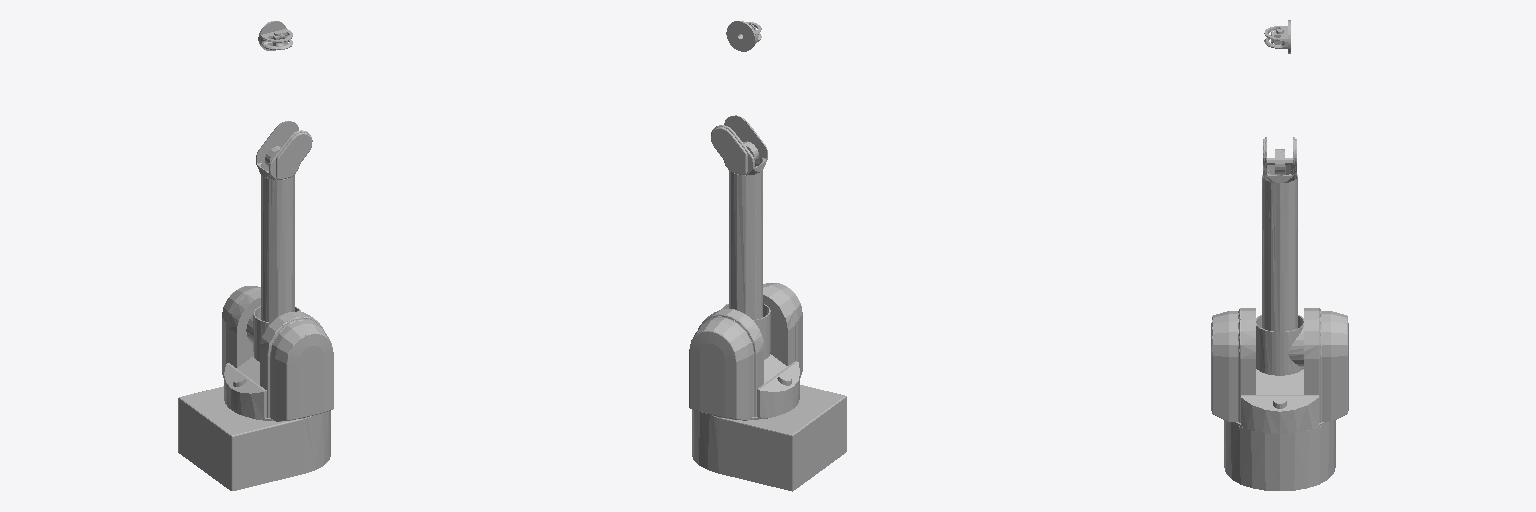
robot.urdf — iri_wam:
<?xml version="1.0" ?>
<!-- =================================================================================== -->
<!-- |    This document was autogenerated by xacro from [local-path]/programming/iri/iri-ros-pkg/iri_wam/iri_wam_description/xacro/wam.urdf.xacro | -->
<!-- |    EDITING THIS FILE BY HAND IS NOT RECOMMENDED                                 | -->
<!-- =================================================================================== -->
<robot name="iri_wam" xmlns:controller="http://playerstage.sourceforge.net/gazebo/xmlschema/#controller" xmlns:interface="http://playerstage.sourceforge.net/gazebo/xmlschema/#interface" xmlns:sensor="http://playerstage.sourceforge.net/gazebo/xmlschema/#sensor" xmlns:xacro="http://ros.org/wiki/xacro">
  <!-- Constants -->
  <!-- Includes -->
  <!-- MACROS -->
  <!-- LINKS   -->
  <link name="wambase">
    <inertial>
      <origin rpy="0 0 0" xyz="0 0 0"/>
      <mass value="1"/>
      <inertia ixx="100" ixy="0" ixz="0" iyy="100" iyz="0" izz="100"/>
    </inertial>
    <visual>
      <origin rpy="0 0 0" xyz="0 0 0"/>
      <geometry name="wambase-geom">
        <mesh filename="package://iri_wam_description/mesh/wambase.stl"/>
      </geometry>
      <material name="wambase-mat">
        <color rgba="0.75 0.75 0.75 1.0"/>
      </material>
    </visual>
    <collision>
      <origin rpy="0 0 0" xyz="0 0 0"/>
      <geometry name="wambase-geom">
        <mesh filename="package://iri_wam_description/mesh/wambase.stl"/>
      </geometry>
      <contact_coefficients kd="1.0" kp="1000.0" mu="0"/>
    </collision>
  </link>
  <link name="wam_fk/wam0">
    <inertial>
      <origin rpy="0 0 0" xyz="0 0 0"/>
      <mass value="0.1"/>
      <inertia ixx="100" ixy="0" ixz="0" iyy="100" iyz="0" izz="100"/>
    </inertial>
    <!--
    <visual>
      <origin rpy="0 0 0" xyz="0 0 0"/>
      <geometry name="wam0-geom">
        <mesh filename="package://iri_wam_description/mesh/wam0.stl"/>
      </geometry>
      <material name="wam0-mat">
        <color rgba="0.75 0.75 0.75 1.0"/>
      </material>
    </visual>
-->
    <collision>
      <origin rpy="0 0 0" xyz="0 0 0"/>
      <geometry name="wam0-geom">
        <mesh filename="package://iri_wam_description/mesh/wam0.stl"/>
      </geometry>
      <contact_coefficients kd="1.0" kp="1000.0" mu="0"/>
    </collision>
  </link>
  <link name="wam_fk/wam1">
    <inertial>
      <origin rpy="1.5708 0 0" xyz="0 0 0"/>
      <mass value="0.1"/>
      <inertia ixx="100" ixy="0" ixz="0" iyy="100" iyz="0" izz="100"/>
    </inertial>
    <visual>
      <origin rpy="1.5708 0 0" xyz="0 0 0"/>
      <geometry name="wam1-geom">
        <mesh filename="package://iri_wam_description/mesh/wam1.stl"/>
      </geometry>
      <material name="wam1-mat">
        <color rgba="0.75 0.75 0.75 1.0"/>
      </material>
    </visual>
    <collision>
      <origin rpy="1.5708 0 0" xyz="0 0 0"/>
      <geometry name="wam1-geom">
        <mesh filename="package://iri_wam_description/mesh/wam1.stl"/>
      </geometry>
      <contact_coefficients kd="1.0" kp="1000.0" mu="0"/>
    </collision>
  </link>
  <link name="wam_fk/wam2">
    <inertial>
      <origin rpy="-1.5708 0 0" xyz="0 0 0"/>
      <mass value="0.1"/>
      <inertia ixx="100" ixy="0" ixz="0" iyy="100" iyz="0" izz="100"/>
    </inertial>
    <visual>
      <origin rpy="-1.5708 0 0" xyz="0 0 0"/>
      <geometry name="wam2-geom">
        <mesh filename="package://iri_wam_description/mesh/wam2.stl"/>
      </geometry>
      <material name="wam2-mat">
        <color rgba="0.75 0.75 0.75 1.0"/>
      </material>
    </visual>
    <collision>
      <origin rpy="-1.5708 0 0" xyz="0 0 0"/>
      <geometry name="wam2-geom">
        <mesh filename="package://iri_wam_description/mesh/wam2.stl"/>
      </geometry>
      <contact_coefficients kd="1.0" kp="1000.0" mu="0"/>
    </collision>
  </link>
  <link name="wam_fk/wam3">
    <inertial>
      <origin rpy="1.5708 0 0" xyz="-0.045 0.55 0"/>
      <mass value="0.1"/>
      <inertia ixx="100" ixy="0" ixz="0" iyy="100" iyz="0" izz="100"/>
    </inertial>
    <visual>
      <origin rpy="1.5708 0 0" xyz="-0.045 0.55 0"/>
      <geometry name="wam3-geom">
        <mesh filename="package://iri_wam_description/mesh/wam3.stl"/>
      </geometry>
      <material name="wam3-mat">
        <color rgba="0.75 0.75 0.75 1.0"/>
      </material>
    </visual>
    <collision>
      <origin rpy="1.5708 0 0" xyz="-0.045 0.55 0"/>
      <geometry name="wam3-geom">
        <mesh filename="package://iri_wam_description/mesh/wam3.stl"/>
      </geometry>
      <contact_coefficients kd="1.0" kp="1000.0" mu="0"/>
    </collision>
  </link>
  <link name="wam_fk/wam4">
    <inertial>
      <origin rpy="-1.5708 0 0" xyz="0.045 0 0"/>
      <mass value="0.1"/>
      <inertia ixx="100" ixy="0" ixz="0" iyy="100" iyz="0" izz="100"/>
    </inertial>
    <visual>
      <origin rpy="-1.5708 0 0" xyz="0.045 0 0"/>
      <geometry name="wam4-geom">
        <mesh filename="package://iri_wam_description/mesh/wam4.stl"/>
      </geometry>
      <material name="wam4-mat">
        <color rgba="0.75 0.75 0.75 1.0"/>
      </material>
    </visual>
    <collision>
      <origin rpy="-1.5708 0 0" xyz="0.045 0 0"/>
      <geometry name="wam4-geom">
        <mesh filename="package://iri_wam_description/mesh/wam4.stl"/>
      </geometry>
      <contact_coefficients kd="1.0" kp="1000.0" mu="0"/>
    </collision>
  </link>
  <link name="wam_fk/wam5">
    <inertial>
      <origin rpy="1.5708 0 0" xyz="0 0 0"/>
      <mass value="0.1"/>
      <inertia ixx="100" ixy="0" ixz="0" iyy="100" iyz="0" izz="100"/>
    </inertial>
    <visual>
      <origin rpy="1.5708 0 0" xyz="0 0 0"/>
      <geometry name="wam5-geom">
        <mesh filename="package://iri_wam_description/mesh/wam5.stl"/>
      </geometry>
      <material name="wam5-mat">
        <color rgba="0.75 0.75 0.75 1.0"/>
      </material>
    </visual>
    <collision>
      <origin rpy="1.5708 0 0" xyz="0 0 0"/>
      <geometry name="wam5-geom">
        <mesh filename="package://iri_wam_description/mesh/wam5.stl"/>
      </geometry>
      <contact_coefficients kd="1.0" kp="1000.0" mu="0"/>
    </collision>
  </link>
  <link name="wam_fk/wam6">
    <inertial>
      <origin rpy="-1.5708 0 0" xyz="0 0 0"/>
      <mass value="0.1"/>
      <inertia ixx="100" ixy="0" ixz="0" iyy="100" iyz="0" izz="100"/>
    </inertial>
    <visual>
      <origin rpy="-1.5708 0 0" xyz="0 0 0"/>
      <geometry name="wam6-geom">
        <mesh filename="package://iri_wam_description/mesh/wam6.stl"/>
      </geometry>
      <material name="wam6-mat">
        <color rgba="0.75 0.75 0.75 1.0"/>
      </material>
    </visual>
    <collision>
      <origin rpy="-1.5708 0 0" xyz="0 0 0"/>
      <geometry name="wam6-geom">
        <mesh filename="package://iri_wam_description/mesh/wam6.stl"/>
      </geometry>
      <contact_coefficients kd="1.0" kp="1000.0" mu="0"/>
    </collision>
  </link>
  <link name="wam_fk/wam7">
    <inertial>
      <origin rpy="0 0 0" xyz="0 0 -0.06"/>
      <mass value="0.1"/>
      <inertia ixx="100" ixy="0" ixz="0" iyy="100" iyz="0" izz="100"/>
    </inertial>
    <visual>
      <origin rpy="0 0 0" xyz="0 0 -0.06"/>
      <geometry name="wam7-geom">
        <mesh filename="package://iri_wam_description/mesh/wam7.stl"/>
      </geometry>
      <material name="wam7-mat">
        <color rgba="0.75 0.75 0.75 1.0"/>
      </material>
    </visual>
    <collision>
      <origin rpy="0 0 0" xyz="0 0 -0.06"/>
      <geometry name="wam7-geom">
        <mesh filename="package://iri_wam_description/mesh/wam7.stl"/>
      </geometry>
      <contact_coefficients kd="1.0" kp="1000.0" mu="0"/>
    </collision>
  </link>
  <!-- JOINTS  -->
  <joint name="j0" type="revolute">
    <parent link="wambase"/>
    <child link="wam_fk/wam0"/>
    <origin rpy="0 0 0" xyz="0.22 0.14 0.346"/>
    <limit effort="30" lower="-2.6" upper="2.6" velocity="2"/>
    <axis xyz="0 0 1"/>
  </joint>
  <joint name="j1" type="revolute">
    <parent link="wam_fk/wam0"/>
    <child link="wam_fk/wam1"/>
    <origin rpy="-1.5708 0 0" xyz="0 0 0"/>
    <limit effort="30" lower="-2.6" upper="2.6" velocity="2"/>
    <axis xyz="0 1 0"/>
  </joint>
  <joint name="j2" type="revolute">
    <parent link="wam_fk/wam1"/>
    <child link="wam_fk/wam2"/>
    <origin rpy="1.5708 0 0" xyz="0 0 0"/>
    <limit effort="30" lower="-2.0" upper="2.0" velocity="2"/>
    <axis xyz="0 1 0"/>
  </joint>
  <joint name="j3" type="revolute">
    <parent link="wam_fk/wam2"/>
    <child link="wam_fk/wam3"/>
    <origin rpy="-1.5708 0 0" xyz="0.045 0 0.55"/>
    <limit effort="30" lower="-2.8" upper="2.8" velocity="2"/>
    <axis xyz="0 0 1"/>
  </joint>
  <joint name="j4" type="revolute">
    <parent link="wam_fk/wam3"/>
    <child link="wam_fk/wam4"/>
    <origin rpy="1.5708 0 0" xyz="-0.045 0 0"/>
    <limit effort="30" lower="-2.8" upper="2.8" velocity="2"/>
    <axis xyz="0 0 1"/>
  </joint>
  <joint name="j5" type="revolute">
    <parent link="wam_fk/wam4"/>
    <child link="wam_fk/wam5"/>
    <origin rpy="-1.5708 0 0" xyz="0 0 0.3"/>
    <limit effort="30" lower="-2.8" upper="2.8" velocity="2"/>
    <axis xyz="0 0 1"/>
  </joint>
  <joint name="j6" type="revolute">
    <parent link="wam_fk/wam5"/>
    <child link="wam_fk/wam6"/>
    <origin rpy="1.5708 0 0" xyz="0 0 0"/>
    <limit effort="30" lower="-2.8" upper="2.8" velocity="2"/>
    <axis xyz="0 0 1"/>
  </joint>
  <joint name="j7" type="revolute">
    <parent link="wam_fk/wam6"/>
    <child link="wam_fk/wam7"/>
    <origin rpy="0 0 0" xyz="0 0 0.06"/>
    <limit effort="30" lower="-2.8" upper="2.8" velocity="2"/>
    <axis xyz="0 0 1"/>
  </joint>
  <!-- Transmission -->
  <transmission name="linkb_link0_trans" type="pr2_mechanism_model/SimpleTransmission">
    <actuator name="linkb_link0_motor"/>
    <joint name="j0"/>
    <mechanicalReduction>1</mechanicalReduction>
    <motorTorqueConstant>1</motorTorqueConstant>
    <!--  <pulsesPerRevolution>90000</pulsesPerRevolution>-->
  </transmission>
  <transmission name="link0_link1_trans" type="pr2_mechanism_model/SimpleTransmission">
    <actuator name="link0_link1_motor"/>
    <joint name="j1"/>
    <mechanicalReduction>1</mechanicalReduction>
    <motorTorqueConstant>1</motorTorqueConstant>
    <!--  <pulsesPerRevolution>90000</pulsesPerRevolution>-->
  </transmission>
  <transmission name="link1_link2_trans" type="pr2_mechanism_model/SimpleTransmission">
    <actuator name="link1_link2_motor"/>
    <joint name="j2"/>
    <mechanicalReduction>1</mechanicalReduction>
    <motorTorqueConstant>1</motorTorqueConstant>
    <!--  <pulsesPerRevolution>90000</pulsesPerRevolution>-->
  </transmission>
  <transmission name="link2_link3_trans" type="pr2_mechanism_model/SimpleTransmission">
    <actuator name="link2_link3_motor"/>
    <joint name="j3"/>
    <mechanicalReduction>1</mechanicalReduction>
    <motorTorqueConstant>1</motorTorqueConstant>
    <!--  <pulsesPerRevolution>90000</pulsesPerRevolution>-->
  </transmission>
  <transmission name="link3_link4_trans" type="pr2_mechanism_model/SimpleTransmission">
    <actuator name="link3_link4_motor"/>
    <joint name="j4"/>
    <mechanicalReduction>1</mechanicalReduction>
    <motorTorqueConstant>1</motorTorqueConstant>
    <!--  <pulsesPerRevolution>90000</pulsesPerRevolution>-->
  </transmission>
  <transmission name="link4_link5_trans" type="pr2_mechanism_model/SimpleTransmission">
    <actuator name="link4_link5_motor"/>
    <joint name="j5"/>
    <mechanicalReduction>1</mechanicalReduction>
    <motorTorqueConstant>1</motorTorqueConstant>
    <!--  <pulsesPerRevolution>90000</pulsesPerRevolution>-->
  </transmission>
  <transmission name="link5_link6_trans" type="pr2_mechanism_model/SimpleTransmission">
    <actuator name="link5_link6_motor"/>
    <joint name="j6"/>
    <mechanicalReduction>1</mechanicalReduction>
    <motorTorqueConstant>1</motorTorqueConstant>
    <!--  <pulsesPerRevolution>90000</pulsesPerRevolution>-->
  </transmission>
  <transmission name="link6_link7_trans" type="pr2_mechanism_model/SimpleTransmission">
    <actuator name="link6_link7_motor"/>
    <joint name="j7"/>
    <mechanicalReduction>1</mechanicalReduction>
    <motorTorqueConstant>1</motorTorqueConstant>
    <!--  <pulsesPerRevolution>90000</pulsesPerRevolution>-->
  </transmission>
  <!-- PLUGINS -->
  <!--  <include filename="$(find iri_wam_gazebo)/urdf/iri_wam.gazebo.xacro" /> -->
</robot>

--- What the picture shows (computed from the rendered views, not written in the file) ---
Views: 3 orthographic renders of the robot side by side, from view 1: azimuth 30°, elevation 25°; view 2: azimuth 150°, elevation 25°; view 3: azimuth 270°, elevation 25°.
Model iri_wam with 9 links and 8 joints (8 revolute), rooted at wambase, posed all joints at 0.
Visible links, largest first — view 1: wam_fk/wam1, wambase, wam_fk/wam3, wam_fk/wam5, wam_fk/wam2; view 2: wam_fk/wam1, wambase, wam_fk/wam3, wam_fk/wam5; view 3: wam_fk/wam1, wam_fk/wam3, wambase, wam_fk/wam2, wam_fk/wam5.
Link boxes in pixels (x1,y1,x2,y2): wam_fk/wam1: (222, 286, 333, 421); wambase: (178, 386, 330, 490); wam_fk/wam3: (256, 121, 312, 322); wam_fk/wam5: (258, 21, 292, 50); wam_fk/wam2: (246, 306, 300, 361); wam_fk/wam1: (689, 283, 802, 420); wambase: (692, 385, 846, 491); wam_fk/wam3: (711, 115, 767, 319); wam_fk/wam5: (726, 21, 761, 51); wam_fk/wam1: (1211, 308, 1348, 433); wam_fk/wam3: (1262, 137, 1297, 331); wambase: (1224, 420, 1335, 490); wam_fk/wam2: (1256, 315, 1303, 375); wam_fk/wam5: (1264, 20, 1290, 53).
Size in the robot's own frame: 0.36 by 0.3476 by 1.24 metres.
Meshes: 8 distinct files referenced, 5 mesh visuals loaded (5 binary STL); not drawn: 3 (reference not matched to a file when rendering).